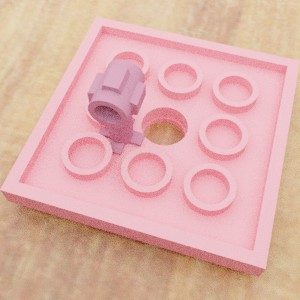lego: (0, 16, 300, 276), (87, 59, 145, 162)
